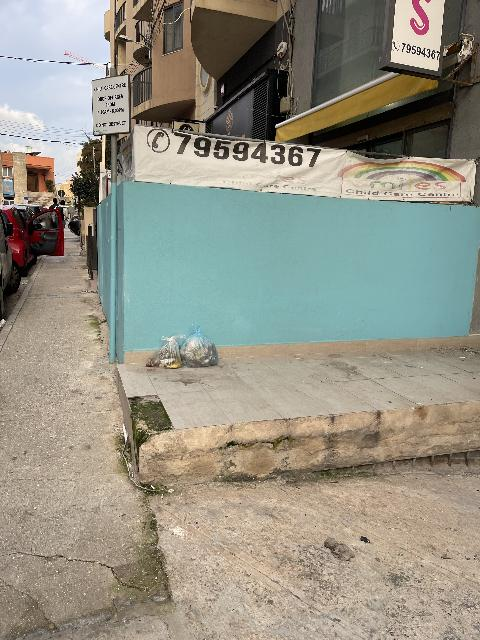Organic -White-: (180, 327, 218, 367), (146, 335, 186, 368)
